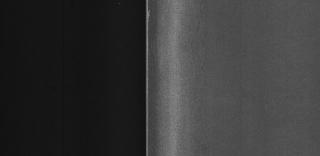silk spot: (156, 11, 204, 139)
